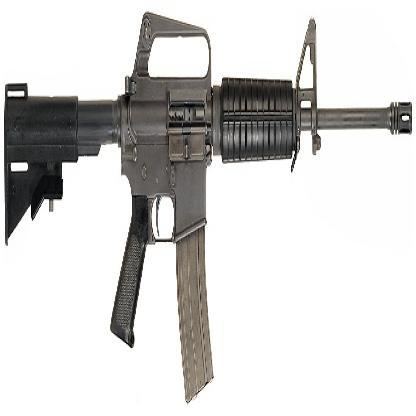gun: (1, 15, 412, 391)
